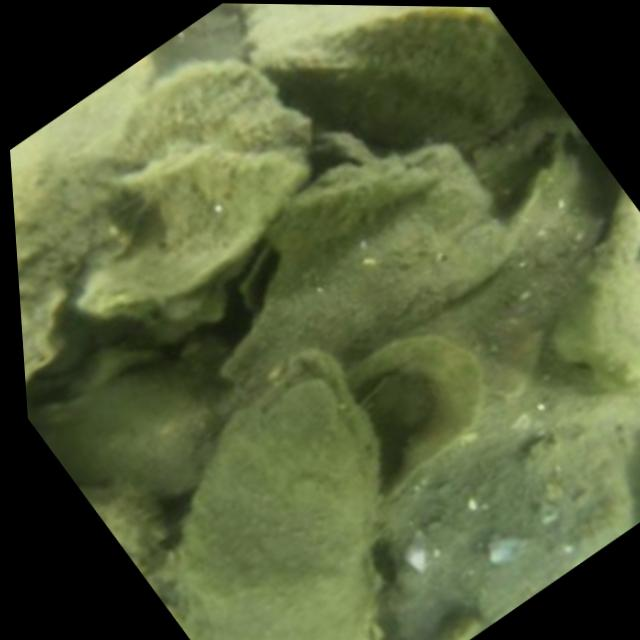Oyster-Closed: (175, 343, 383, 640), (77, 135, 319, 333)
Oyster-Indeterminate: (224, 145, 516, 399), (388, 423, 635, 640), (245, 6, 529, 147), (338, 333, 493, 511), (12, 162, 144, 362), (38, 359, 219, 496), (116, 59, 323, 163), (258, 161, 446, 263), (11, 69, 154, 179), (239, 4, 346, 36)
